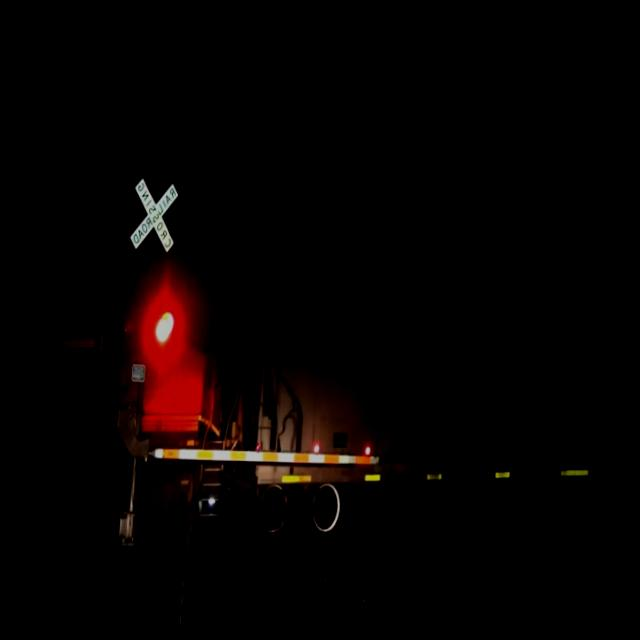hopper: (244, 261, 629, 554)
